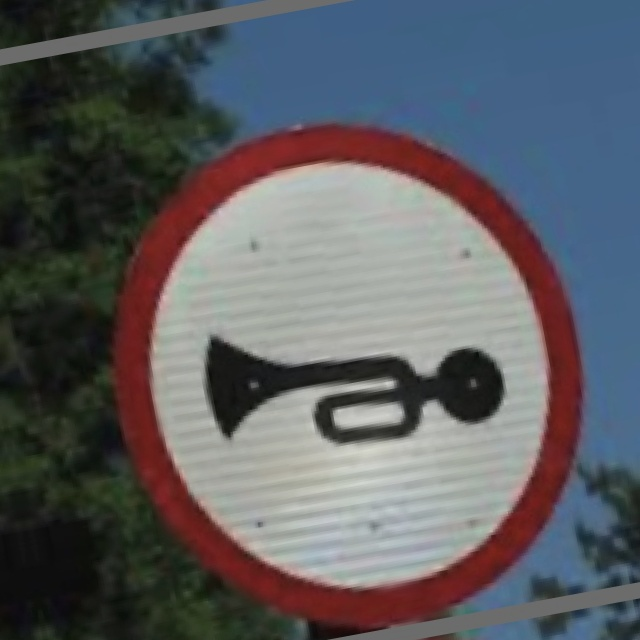Compulsory_Sound_Horn: (88, 98, 600, 625)
